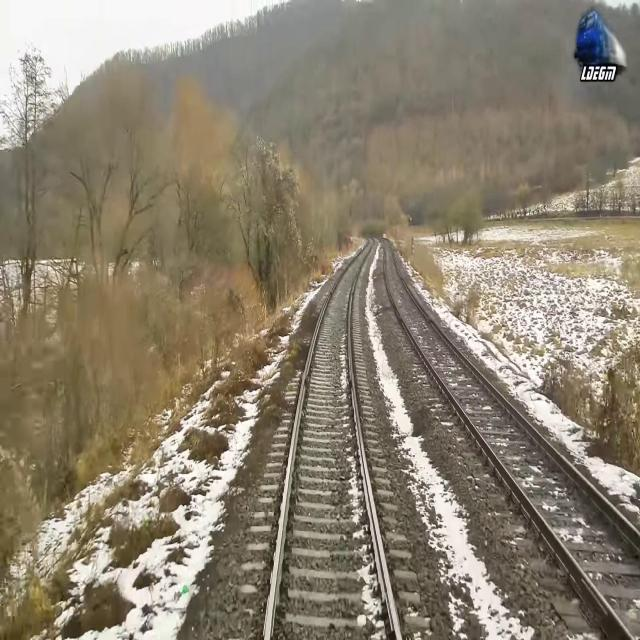rail-track: (382, 238, 640, 639), (269, 236, 396, 639)
